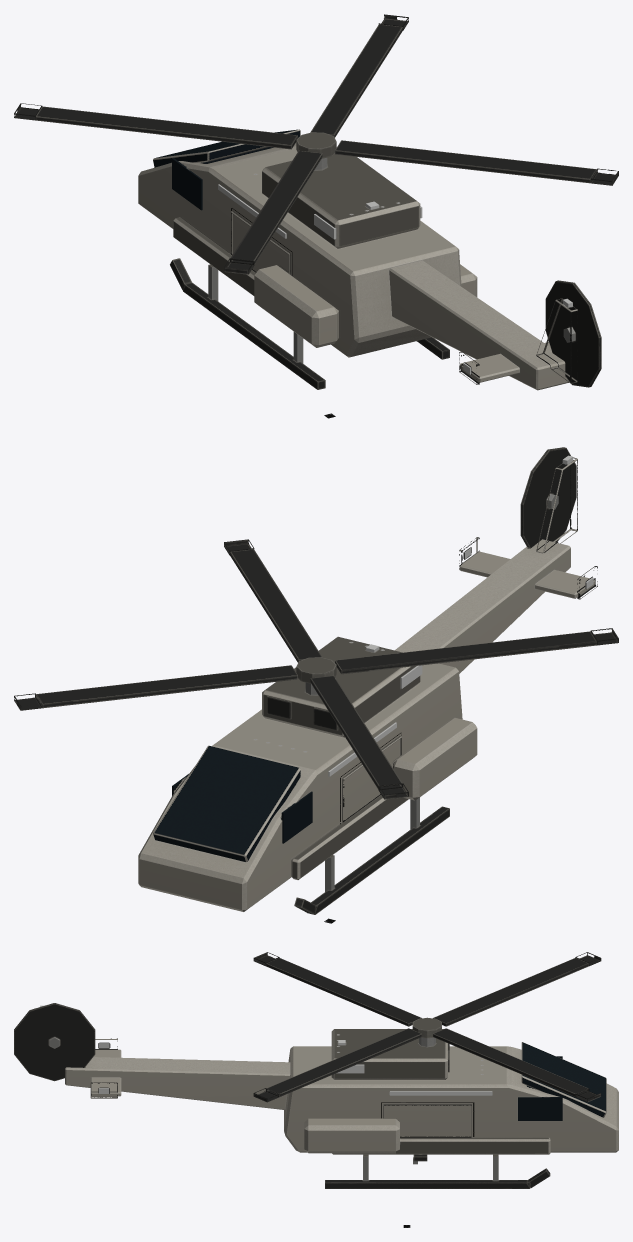
Rendered from ord_courier.fbx.
3 renders of one model, top to bottom at view 1: azimuth 30°, elevation 25°; view 2: azimuth 150°, elevation 25°; view 3: azimuth 270°, elevation 25°, orthographic. The views are drawn at different scales.
Parts seen in each view (by area): view 1: base_bar, rotor_bar, tailRotor_bar, base_glow_running_bar; view 2: base_bar, rotor_bar, tailRotor_bar, base_glow_running_bar; view 3: base_bar, rotor_bar, tailRotor_bar, base_glow_running_bar.
Boxes of the visible parts, x1=… form: base_bar: x1=138, y1=129, x2=577, y2=390; rotor_bar: x1=14, y1=14, x2=618, y2=274; tailRotor_bar: x1=545, y1=280, x2=601, y2=387; base_glow_running_bar: x1=218, y1=184, x2=572, y2=374; base_bar: x1=138, y1=457, x2=597, y2=914; rotor_bar: x1=14, y1=539, x2=618, y2=799; tailRotor_bar: x1=520, y1=447, x2=576, y2=548; base_glow_running_bar: x1=328, y1=455, x2=593, y2=776; base_bar: x1=65, y1=1029, x2=618, y2=1188; rotor_bar: x1=253, y1=952, x2=601, y2=1102; tailRotor_bar: x1=14, y1=1003, x2=95, y2=1081; base_glow_running_bar: x1=40, y1=1005, x2=492, y2=1095.
Size of the model in its own units: 1016 by 735 by 1769.
2 materials, 2 textured.
